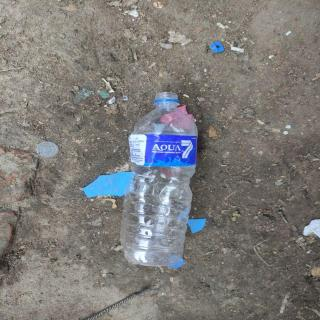Plastic-bottle: (120, 90, 201, 269)
